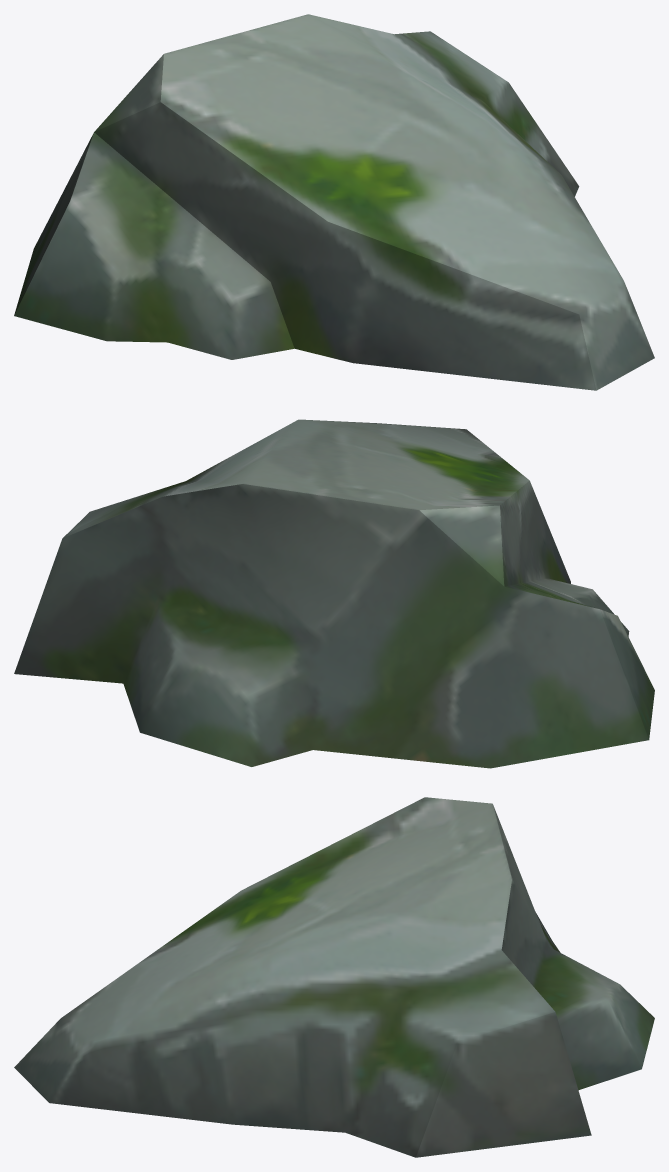
File: scene_shenmisenlin_strone05.FBX
3 renders of one model, top to bottom at view 1: azimuth 30°, elevation 25°; view 2: azimuth 150°, elevation 25°; view 3: azimuth 270°, elevation 25°, orthographic. The views are drawn at different scales.
Visible parts, largest first — view 1: scene_shenmisenlin_strone05; view 2: scene_shenmisenlin_strone05; view 3: scene_shenmisenlin_strone05.
Part boxes in pixels (box(x1,y1,x2,y2)): scene_shenmisenlin_strone05: box(14, 14, 654, 390); scene_shenmisenlin_strone05: box(14, 419, 654, 768); scene_shenmisenlin_strone05: box(14, 797, 654, 1157).
Bounding box in the file's own units: 463 × 154 × 491.
